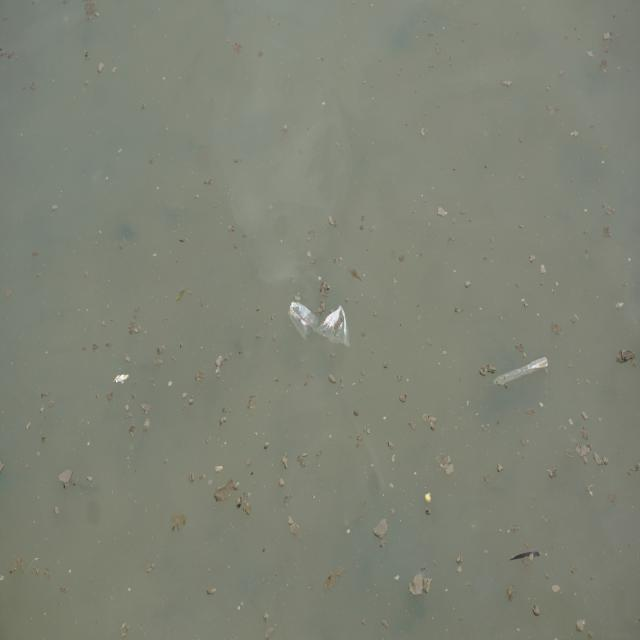Kantong Plastik: (288, 289, 354, 358)
